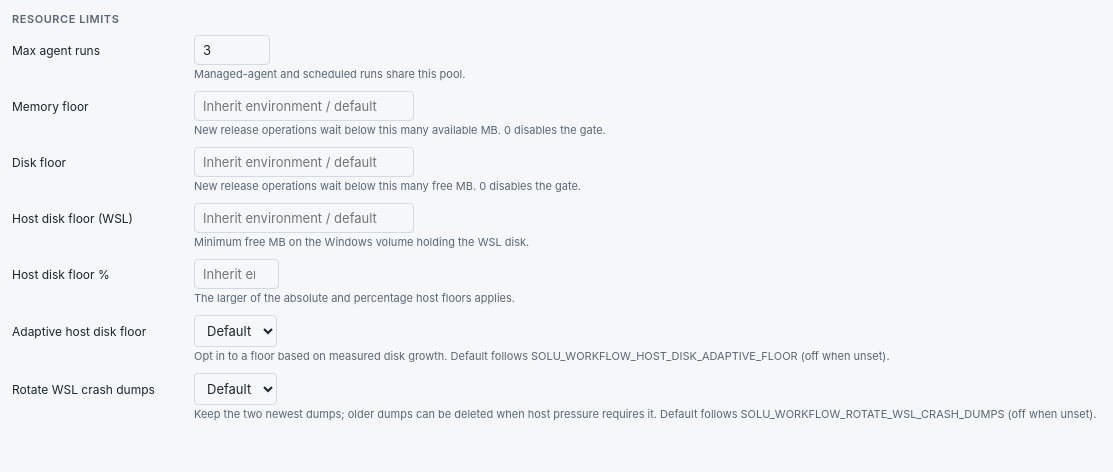
Test: Resource limits › saves only an actual edit, and a failed save shows the saved value again
Replace the text in the number field named "Max agent runs" with "5" at (232, 50), box [194,35,270,65]
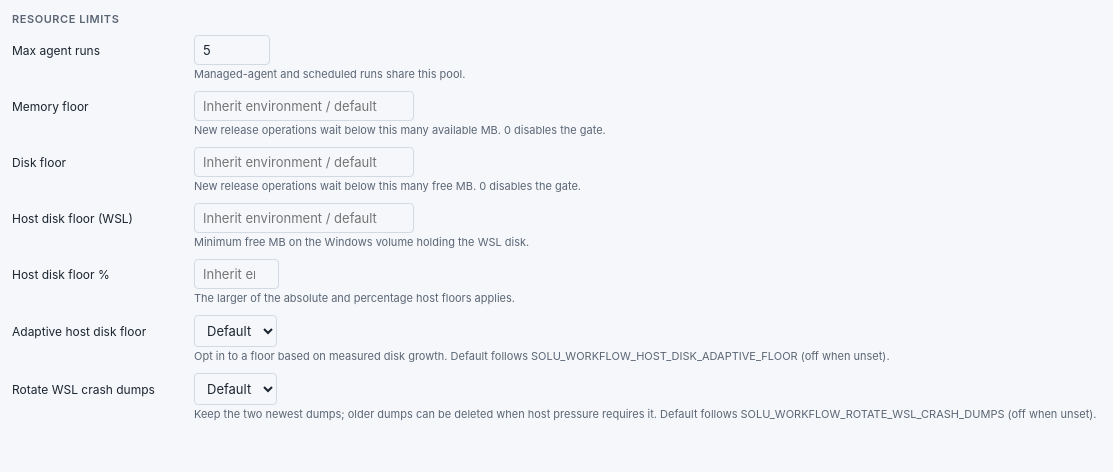
Leave the number field named "Max agent runs", box [194,35,270,65]
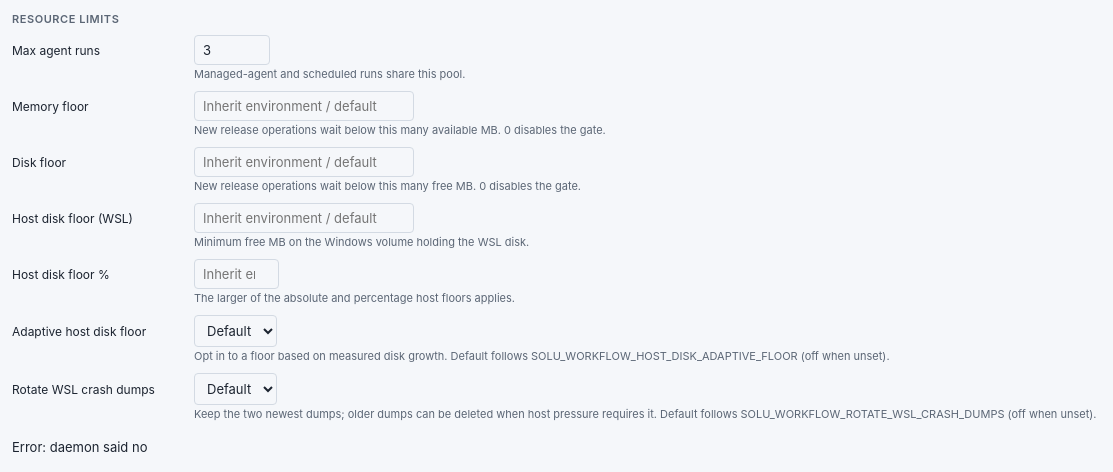
Check: the number field named "Max agent runs" holds "3", box [194,35,270,65]
Check: the message shows "daemon said no", box [12,439,148,455]
